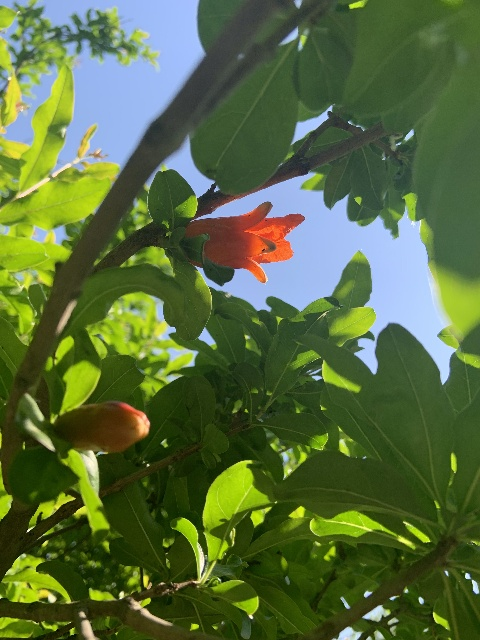bud: (57, 401, 149, 452)
flower: (184, 201, 304, 283)
